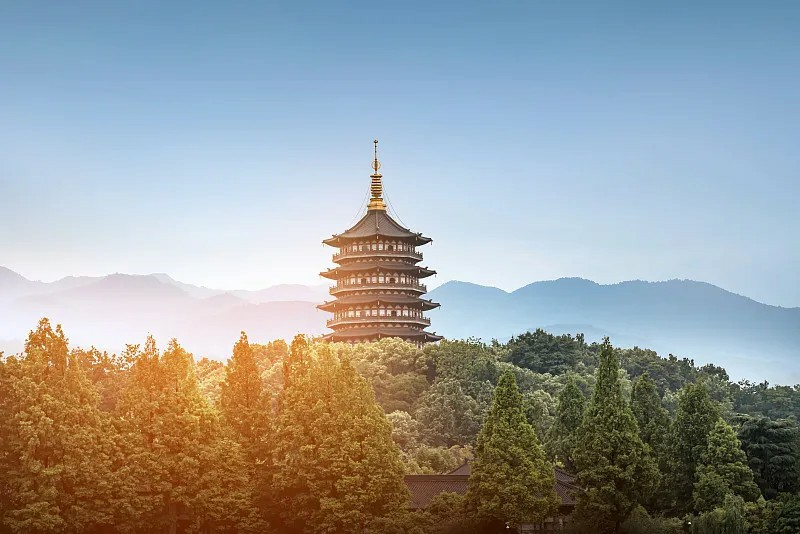Leifeng: (312, 140, 443, 353)
